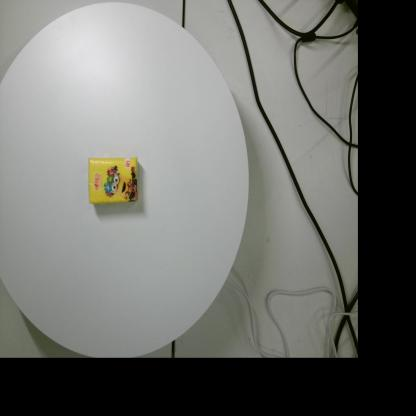Tissue: (88, 157, 138, 204)
